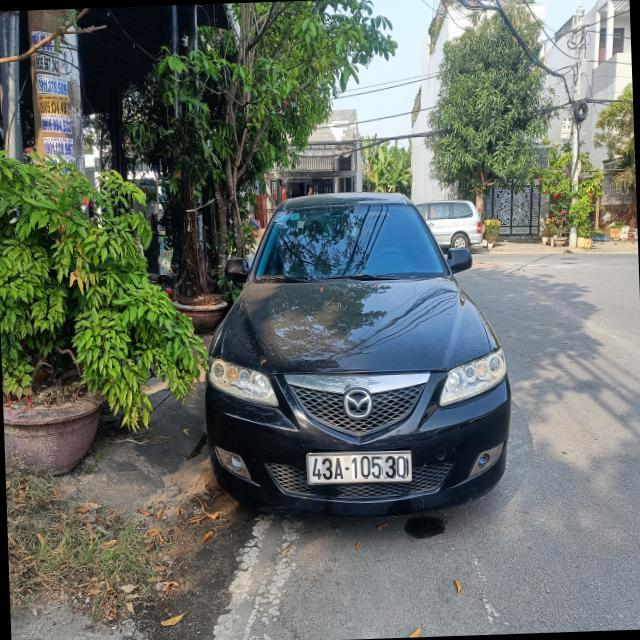car: (195, 182, 508, 528), (419, 193, 488, 260)
plate: (304, 447, 418, 490)
